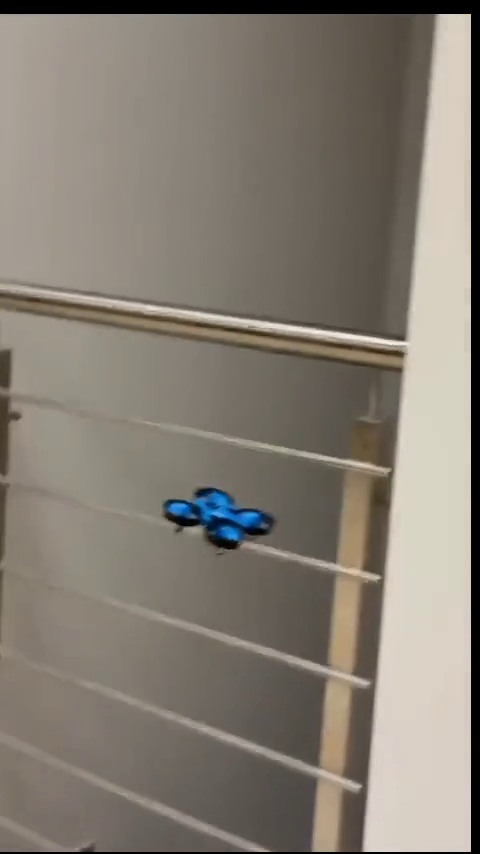drone: (167, 483, 277, 555)
